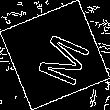M_NW: (23, 24, 87, 86)
